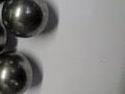ironball: (4, 0, 54, 39), (0, 50, 39, 93), (0, 16, 4, 57), (0, 0, 19, 4)
